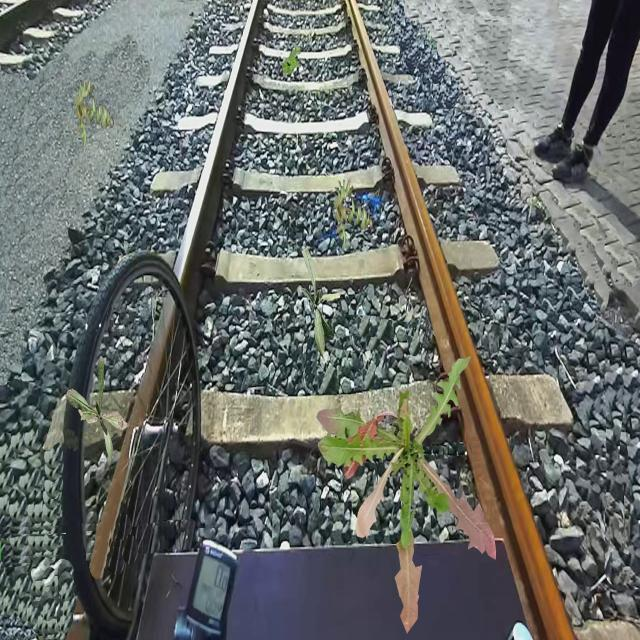Plant: (317, 356, 497, 634), (65, 356, 129, 468), (301, 247, 341, 357), (332, 179, 374, 250), (73, 78, 114, 150), (282, 45, 302, 78)
